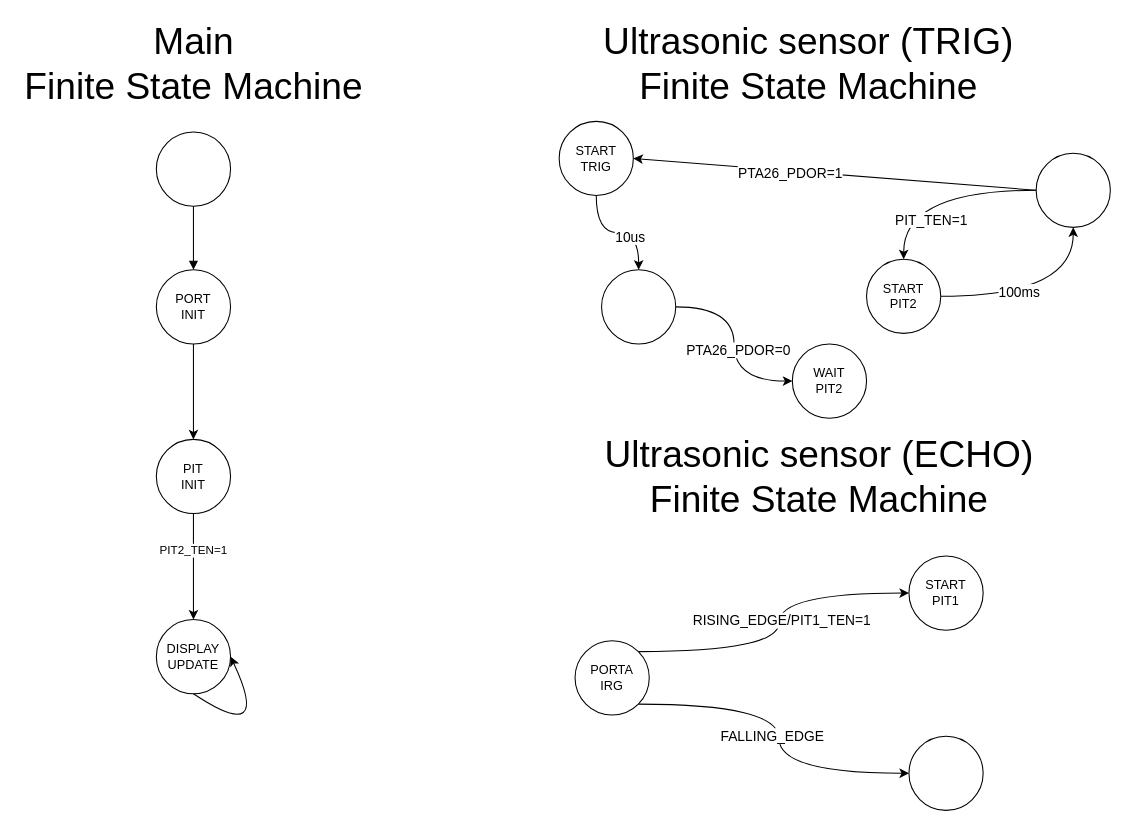
The diagram is 1129 pixels wide and 829 high, and some of its shapes have lost their labels. The box of each missing label's shape, as (x1, y1, x2, y2) in pixels:
PIT0 IRQ: (600, 269, 676, 344)
PIT2 IRQ: (1035, 152, 1110, 227)
Start: (155, 131, 231, 206)
UPDATE DISTANCE: (908, 735, 983, 810)
